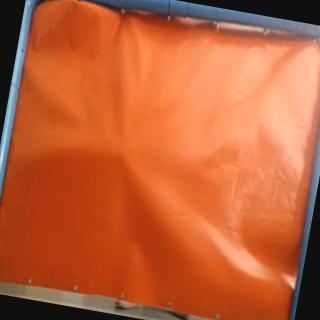Hit-hRxx: (114, 146, 130, 162)
